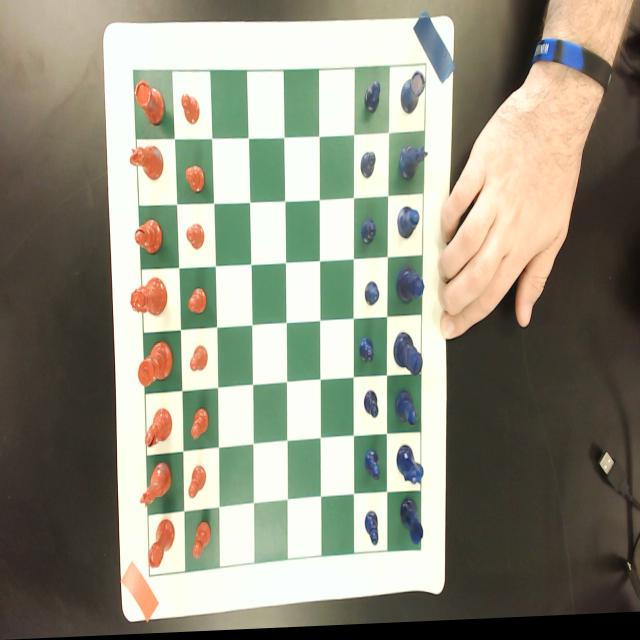B: (394, 393, 418, 430), (398, 209, 420, 244)
K: (392, 335, 422, 381)
N: (396, 448, 424, 490), (400, 147, 430, 186)
P: (358, 338, 376, 369), (364, 453, 380, 486), (364, 84, 380, 117), (365, 514, 379, 551), (363, 393, 379, 424), (360, 154, 376, 183), (364, 283, 380, 311), (361, 220, 376, 249)
Q: (396, 269, 424, 308)
R: (400, 76, 428, 121), (399, 500, 424, 549)
b: (144, 410, 172, 449), (134, 220, 162, 256)
k: (138, 341, 174, 388)
n: (140, 464, 172, 511), (129, 145, 164, 184)
p: (193, 522, 211, 561), (190, 409, 210, 443), (188, 467, 206, 502), (181, 94, 200, 127), (185, 165, 205, 196), (190, 347, 208, 375), (188, 289, 207, 315), (187, 224, 204, 253)
q: (130, 278, 168, 320)
r: (134, 80, 165, 129), (147, 521, 175, 572)
